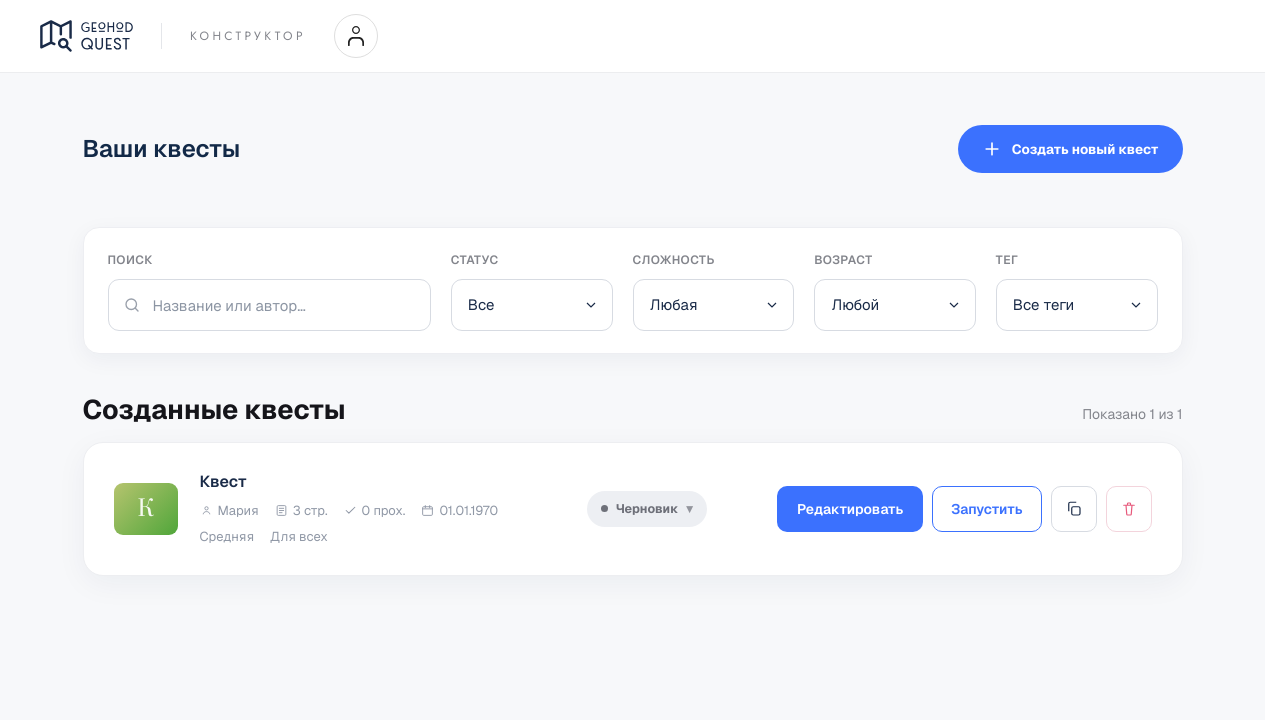
Test: dashboard: deleting a quest › «Отмена» closes without deleting
Click the button titled "Удалить".
click(1128, 509)  # box [1106,486,1152,532]
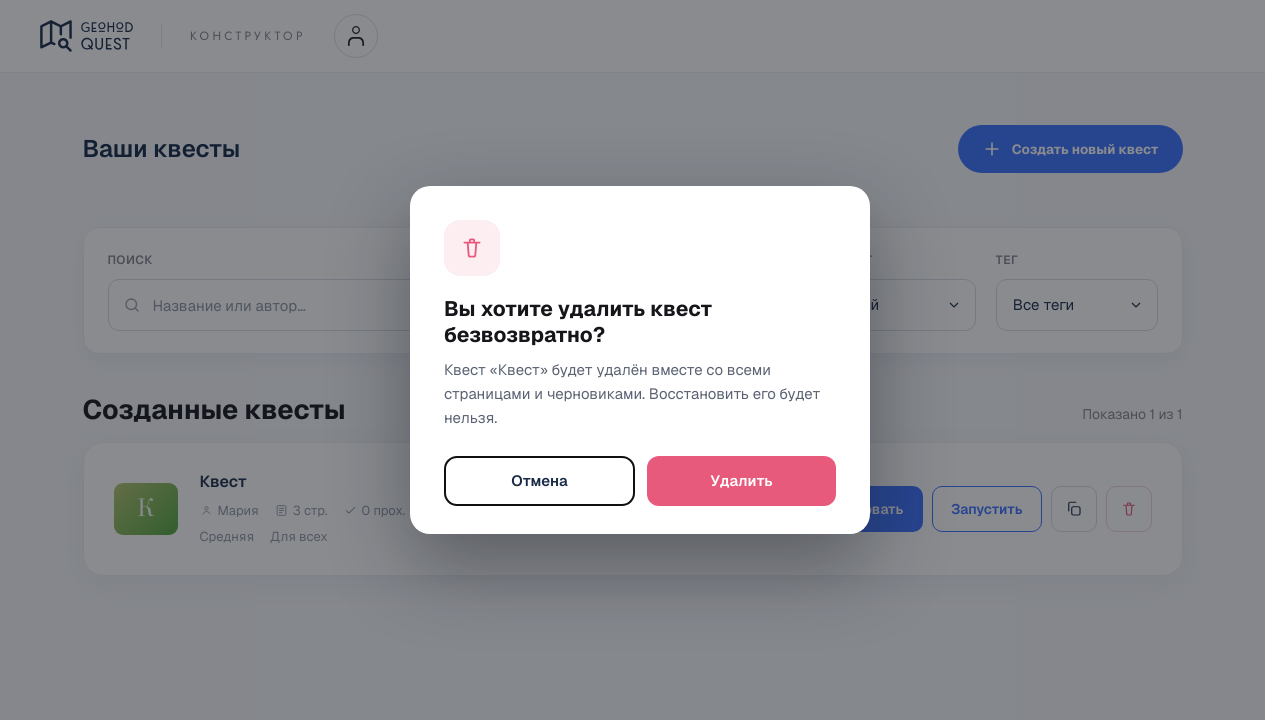
Click the button "Отмена".
click(540, 481)  # box [444,456,635,506]
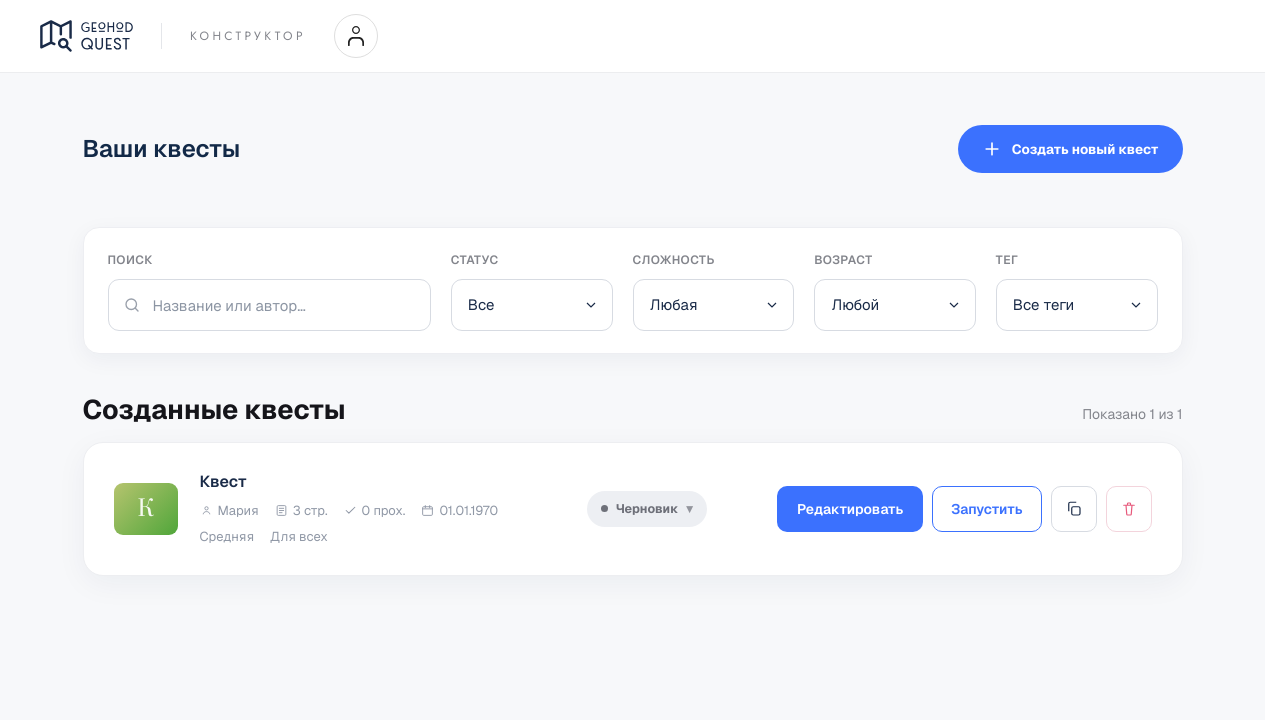
Now the dialog is gone
